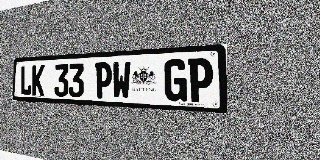3: (69, 63, 84, 98), (54, 64, 69, 97)
G: (164, 59, 187, 102)
K: (32, 65, 45, 96)
L: (20, 65, 32, 96)
P: (188, 58, 213, 103), (95, 62, 112, 99)
W: (112, 61, 131, 99)
